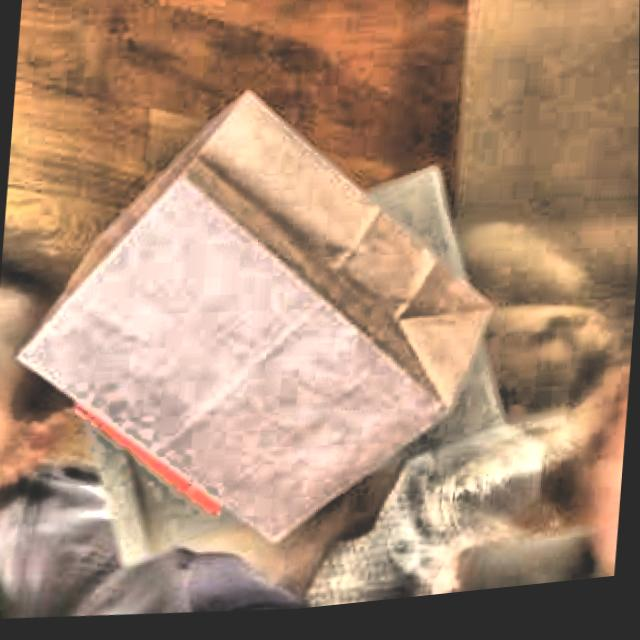Paper-bag: (0, 76, 516, 585), (39, 132, 525, 611)
